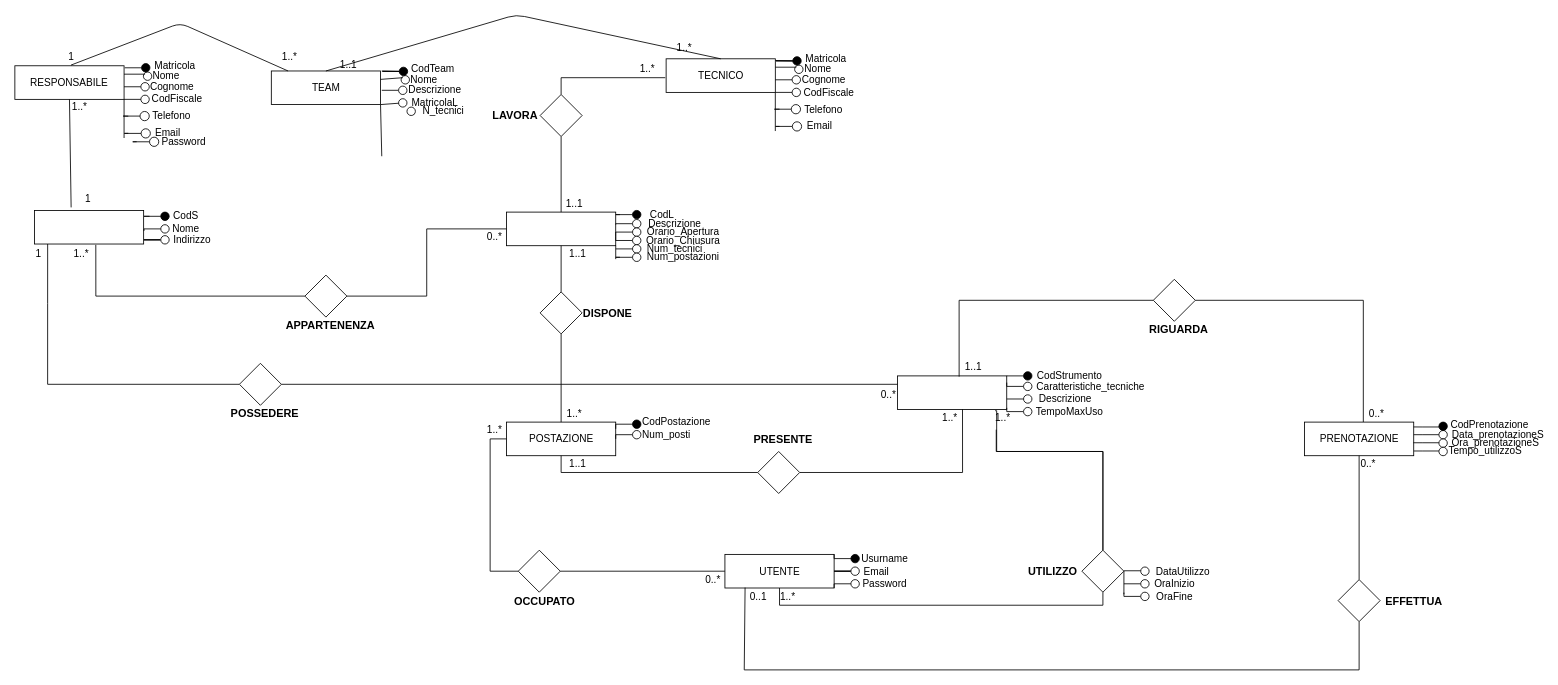
The diagram is 1558 pixels wide and 685 high, and some of its shapes have lost their labels. The shapes that lost their labels are listed below. From the top down, each one's centre as x and y in pixels, then its label:
the point at 89,227: SEDE
the point at 561,228: LABORATORIO
the point at 952,392: STRUMENTO
